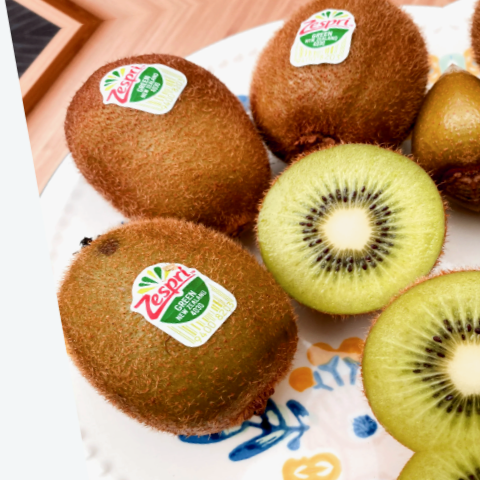kiwi: (32, 174, 341, 456), (51, 16, 279, 273), (221, 0, 463, 183)
